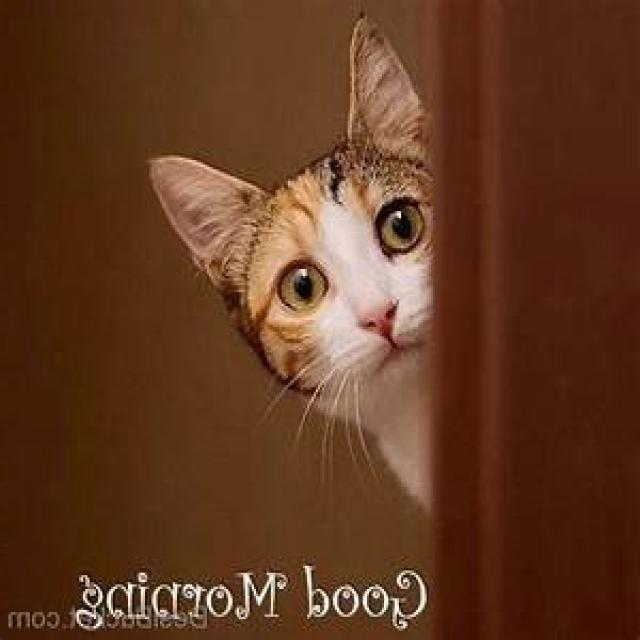KEDI: (148, 10, 429, 512)
